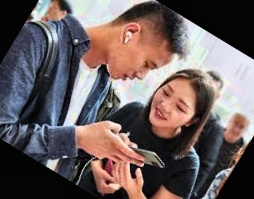earphone: (115, 19, 143, 50)
